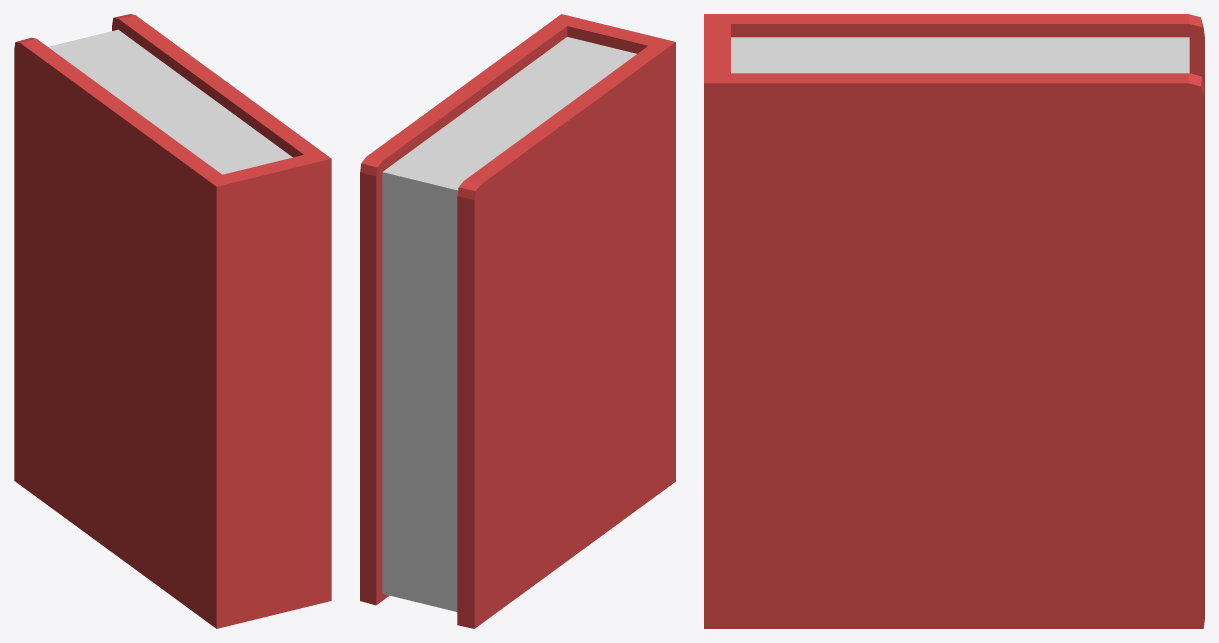
Rendered from book_1.fbx.
The picture shows the model from 3 angles, left to right: view 1: azimuth 30°, elevation 25°; view 2: azimuth 150°, elevation 25°; view 3: azimuth 270°, elevation 25°; orthographic projection. The views are drawn at different scales.
Visible parts, largest first — view 1: Book_1; view 2: Book_1; view 3: Book_1.
Boxes of the visible parts, <box> form: Book_1: <box>14,14,331,628</box>; Book_1: <box>360,14,675,628</box>; Book_1: <box>704,14,1204,628</box>.
Size of the model in its own units: 8.37 by 30.75 by 25.58.
